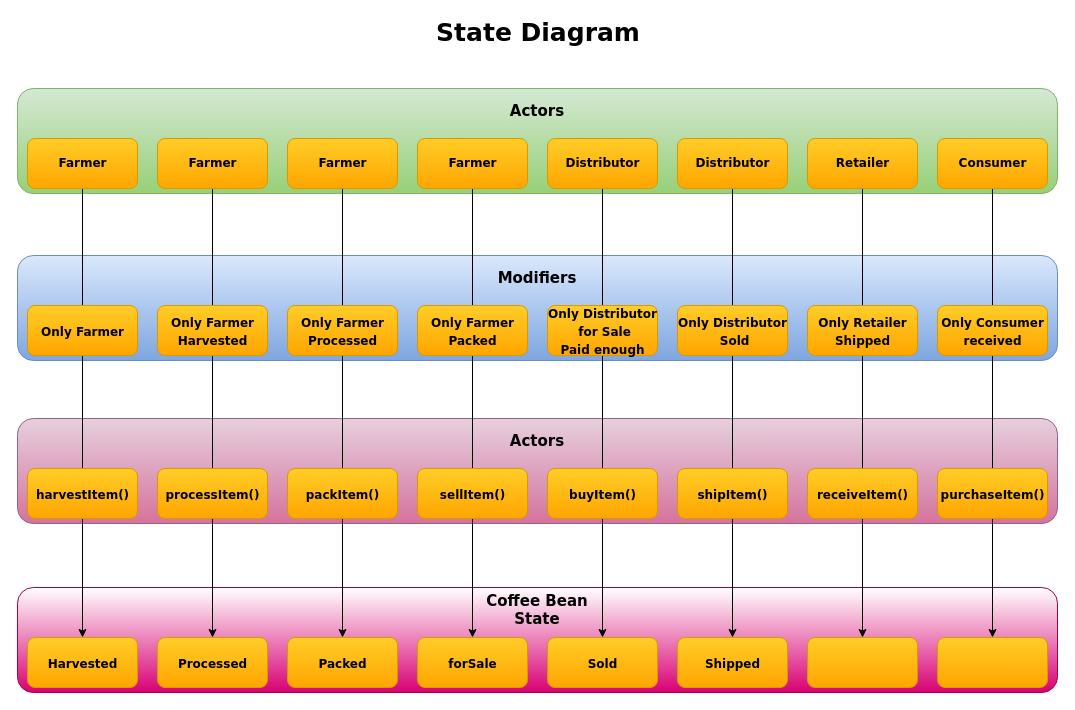
Image size: 1075x710. Some labels were removed from this diagram. Here are the shapes that lost their labels. From the top down, the centre of each, then its label:
(862,662): Received
(992,662): Purchased
